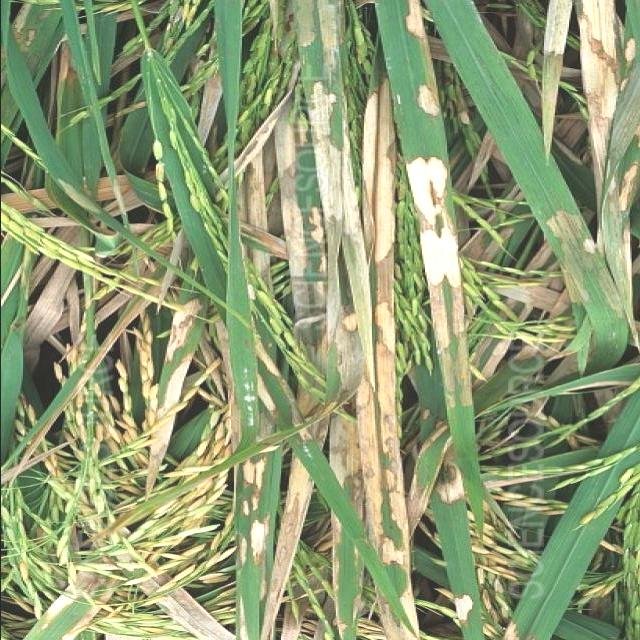Bacterial_Leaf_Blight: (352, 66, 408, 638), (405, 152, 467, 354), (153, 296, 205, 418), (36, 570, 118, 639), (233, 455, 271, 569), (428, 463, 466, 505), (450, 592, 476, 626)
